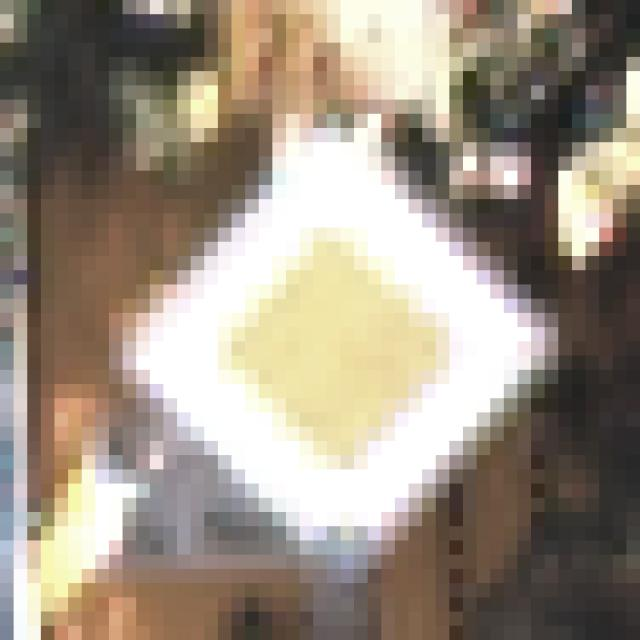Main Road: (83, 72, 573, 556)
